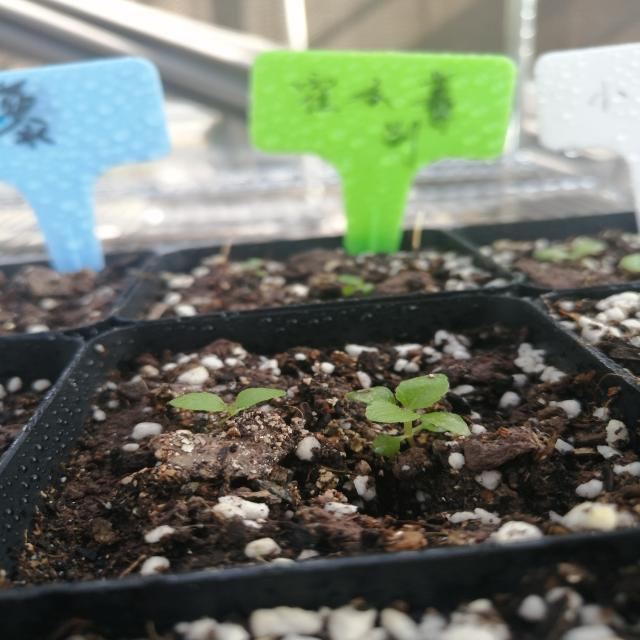billygoat_weed: (342, 368, 487, 457), (148, 375, 296, 428)
